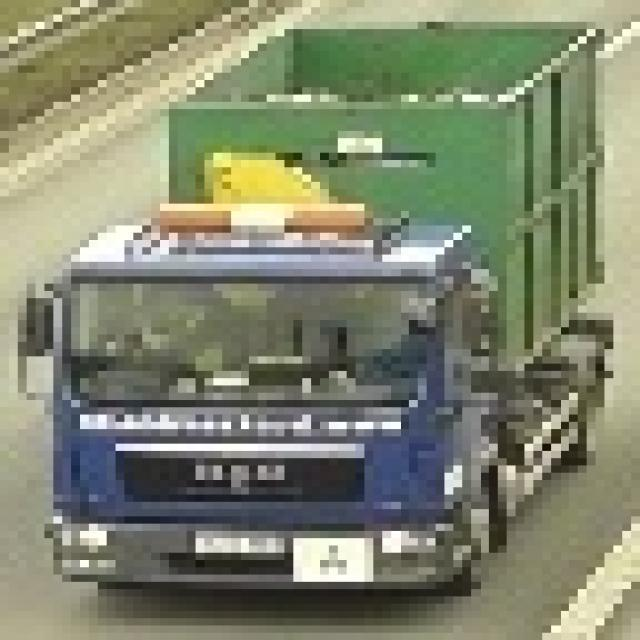truck: (8, 14, 596, 596)
